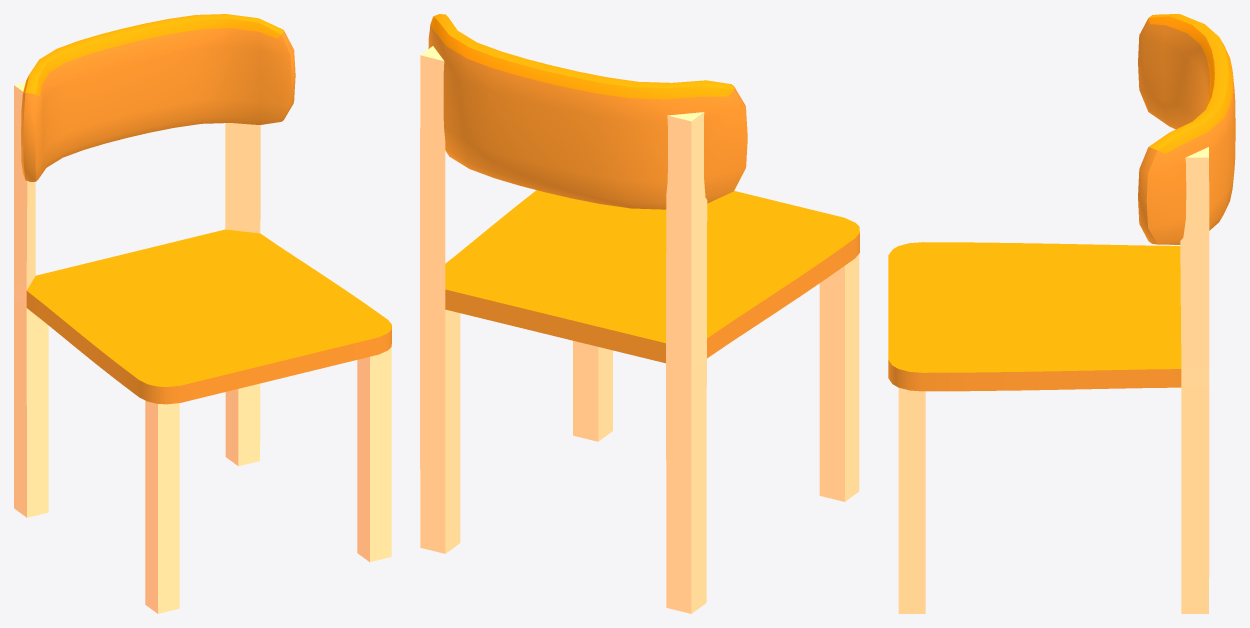
Rendered from Chair.fbx.
3 renders of one model, left to right at view 1: azimuth 30°, elevation 25°; view 2: azimuth 150°, elevation 25°; view 3: azimuth 270°, elevation 25°, orthographic. The views are drawn at different scales.
Parts seen in each view (by area): view 1: Chair 1; view 2: Chair 1; view 3: Chair 1.
Part boxes in pixels (left/top/right/bottom): Chair 1: left=14, top=14, right=391, bottom=613; Chair 1: left=420, top=14, right=859, bottom=613; Chair 1: left=888, top=14, right=1235, bottom=613.
Size of the model in its own units: 156 by 244 by 160.
